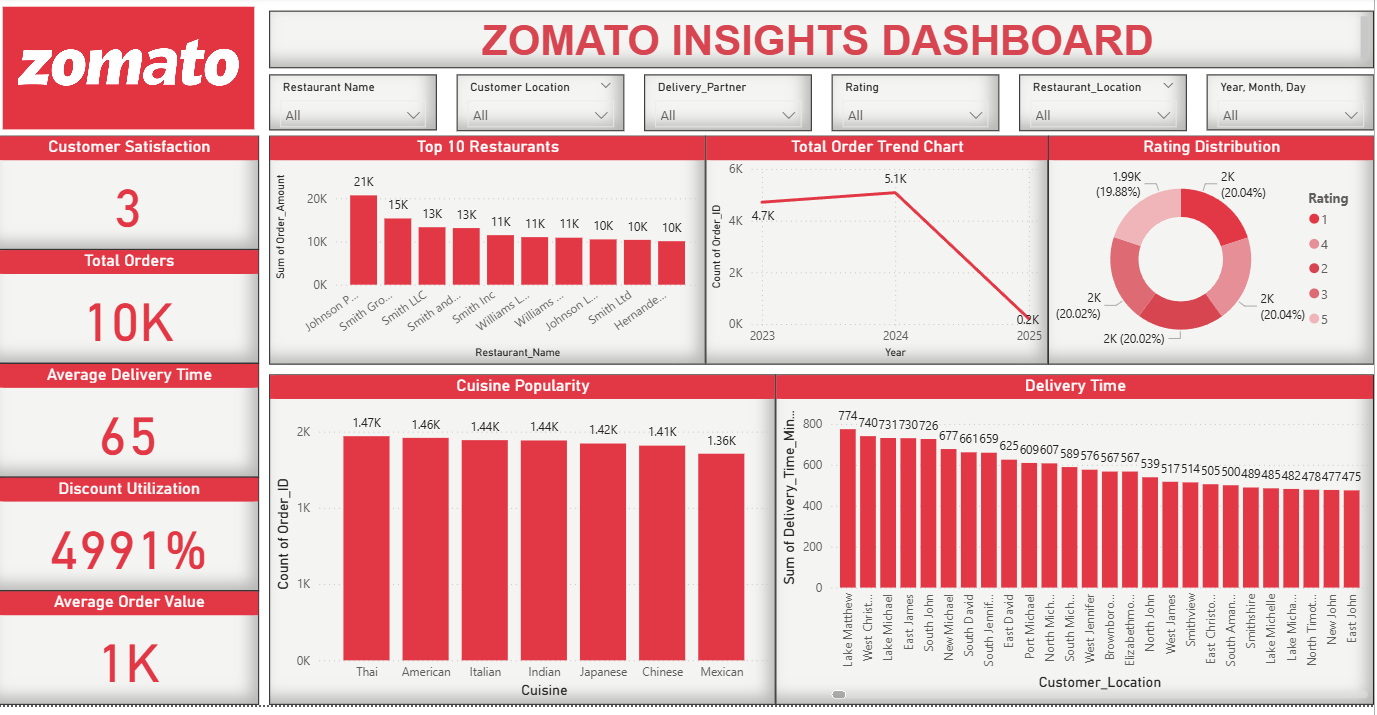

The page's visual inventory and layout, read from the dashboard file:
{"tool":"powerbi","page":{"name":"ZOMATO INSIGHTS DASHBOARD","canvas":[1400,720],"ordinal":1},"visuals":[{"type":"textbox","box":[276,14,1124.3,58.5],"z":0},{"type":"card","title":"Total Orders","fields":{"Values":["Count(Sheet1.Order_ID)"]},"box":[0,256.9,265.8,115.7],"z":0,"group":"g2"},{"type":"image","box":[0,5.1,265.8,134.8],"z":1000},{"type":"card","title":"Average Delivery Time","fields":{"Values":["Avg(Sheet1.Delivery_Time_Minutes)"]},"box":[0,372.7,265.8,115.7],"z":1000,"group":"g2"},{"type":"slicer","fields":{"Values":["Sheet1.Restaurant_Name"]},"box":[276,79,170,57],"z":2000},{"type":"card","title":"Average Order Value","fields":{"Values":["Avg(Sheet1.Order_Amount)"]},"box":[0,604.1,265.8,115.7],"z":2000,"group":"g2"},{"type":"slicer","fields":{"Values":["Sheet1.Customer_Location"]},"box":[466.4,78.9,170.4,57.2],"z":3000},{"type":"card","title":"Customer Satisfaction","fields":{"Values":["Avg(Sheet1.Rating)"]},"box":[0,141.2,265.8,115.7],"z":3000,"group":"g2"},{"type":"slicer","fields":{"Values":["Sheet1.Delivery_Partner"]},"box":[657.3,78.9,170.4,57.2],"z":4000},{"type":"card","title":"Discount Utilization","fields":{"Values":["Sheet1.Discount Utilization (%)"]},"box":[0,488.4,265.8,116],"z":4000,"group":"g2"},{"type":"slicer","fields":{"Values":["Sheet1.Rating"]},"box":[848.2,78.9,170,57.2],"z":5000},{"type":"lineChart","title":"Total Order Trend Chart","fields":{"Category":["Sheet1.Order_Date.Variation.Date Hierarchy.Year"],"Y":["CountNonNull(Sheet1.Order_ID)"]},"box":[719.9,141.2,348.5,232.7],"z":5000,"group":"g4"},{"type":"slicer","fields":{"Values":["Sheet1.Restaurant_Location"]},"box":[1038.7,78.9,170.4,57.2],"z":6000},{"type":"columnChart","title":"Delivery Time","fields":{"Category":["Sheet1.Customer_Location"],"Y":["Sum(Sheet1.Delivery_Time_Minutes)"]},"box":[791.1,384,609.2,336],"z":6000,"group":"g7"},{"type":"slicer","fields":{"Values":["Sheet1.Order_Date.Variation.Date Hierarchy.Year","Sheet1.Order_Date.Variation.Date Hierarchy.Month","Sheet1.Order_Date.Variation.Date Hierarchy.Day"]},"box":[1229.6,79,170.4,57],"z":7000},{"type":"columnChart","title":"Top 10 Restaurants","fields":{"Category":["Sheet1.Restaurant_Name"],"Y":["Sum(Sheet1.Order_Amount)"]},"box":[276,141.2,443.9,232.7],"z":7000,"group":"g1"},{"type":"group","id":"g1","title":"Group 1","box":[276,141.2,1124.3,232.7],"z":8000},{"type":"donutChart","title":"Rating Distribution","fields":{"Category":["Sheet1.Rating"],"Y":["CountNonNull(Sheet1.Order_ID)"]},"box":[1068.1,141.2,331.9,232.7],"z":8000,"group":"g4"},{"type":"group","id":"g2","title":"Group 2","box":[0,141.2,265.8,578.7],"z":9000},{"type":"columnChart","title":"Cuisine Popularity","fields":{"Category":["Sheet1.Cuisine"],"Y":["CountNonNull(Sheet1.Order_ID)"]},"box":[276,384,515.1,336],"z":9000,"group":"g7"},{"type":"group","id":"g3","title":"Group 3","box":[276,384,1124.3,335.8],"z":10000},{"type":"group","id":"g4","title":"Group 7","box":[719.9,141.2,680.2,232.7],"z":17004,"group":"g1"},{"type":"group","id":"g5","title":"Group 4","box":[276,384,1124.3,335.8],"z":17004,"group":"g3"},{"type":"group","id":"g6","title":"Group 5","box":[276,384,1124.3,335.8],"z":17004,"group":"g5"},{"type":"group","id":"g7","title":"Group 6","box":[276,384,1124.3,335.8],"z":17004,"group":"g6"}]}

Visuals, with their boxes in screenshot pixels (x1, y1, x2, y2), scaled from the page's 1400x720 canvas onto the 1377x715 screenshot:
textbox: 271, 14, 1376, 72
"Total Orders" card: 0, 255, 261, 370
image: 0, 5, 261, 139
"Average Delivery Time" card: 0, 370, 261, 485
slicer - Sheet1.Restaurant_Name: 271, 78, 439, 135
"Average Order Value" card: 0, 600, 261, 714
slicer - Sheet1.Customer_Location: 459, 78, 626, 135
"Customer Satisfaction" card: 0, 140, 261, 255
slicer - Sheet1.Delivery_Partner: 647, 78, 814, 135
"Discount Utilization" card: 0, 485, 261, 600
slicer - Sheet1.Rating: 834, 78, 1001, 135
"Total Order Trend Chart" lineChart: 708, 140, 1051, 371
slicer - Sheet1.Restaurant_Location: 1022, 78, 1189, 135
"Delivery Time" columnChart: 778, 381, 1376, 714
slicer - Sheet1.Order_Date.Variation.Date Hierarchy.Year x Sheet1.Order_Date.Variation.Date Hierarchy.Month: 1209, 78, 1376, 135
"Top 10 Restaurants" columnChart: 271, 140, 708, 371
"Group 1" group: 271, 140, 1376, 371
"Rating Distribution" donutChart: 1051, 140, 1376, 371
"Group 2" group: 0, 140, 261, 714
"Cuisine Popularity" columnChart: 271, 381, 778, 714
"Group 3" group: 271, 381, 1376, 714
"Group 7" group: 708, 140, 1376, 371
"Group 4" group: 271, 381, 1376, 714
"Group 5" group: 271, 381, 1376, 714
"Group 6" group: 271, 381, 1376, 714
